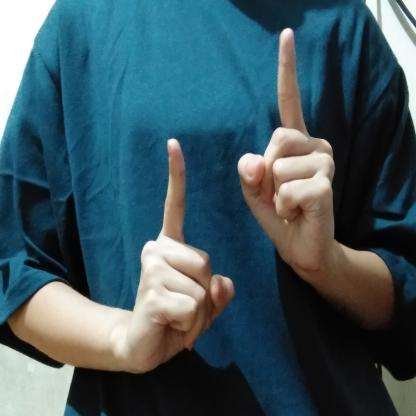morning: (126, 23, 342, 381)
